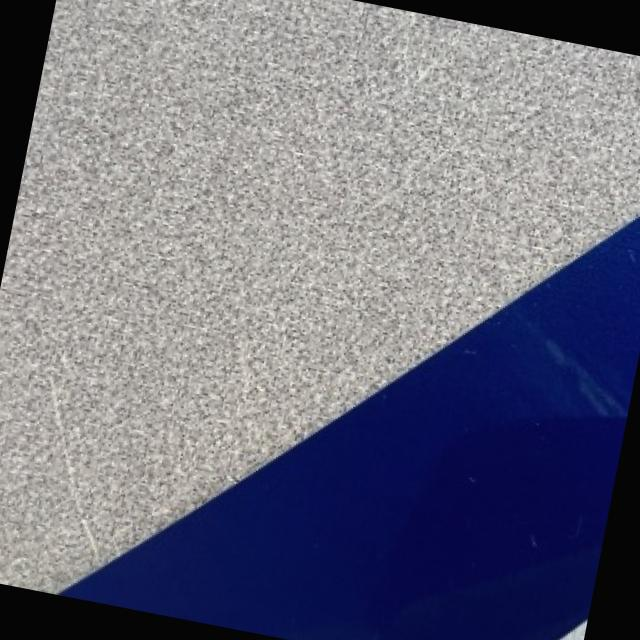healthy: (0, 0, 640, 592), (65, 221, 640, 640), (7, 502, 94, 589)
